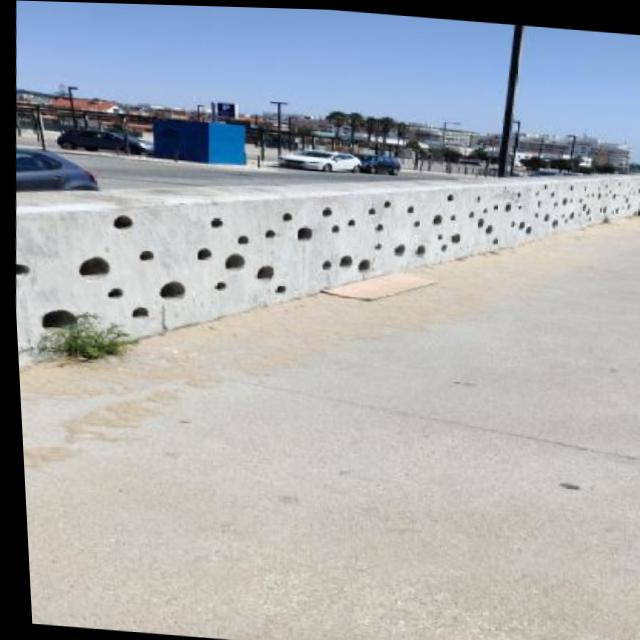cardboard: (318, 266, 444, 307)
